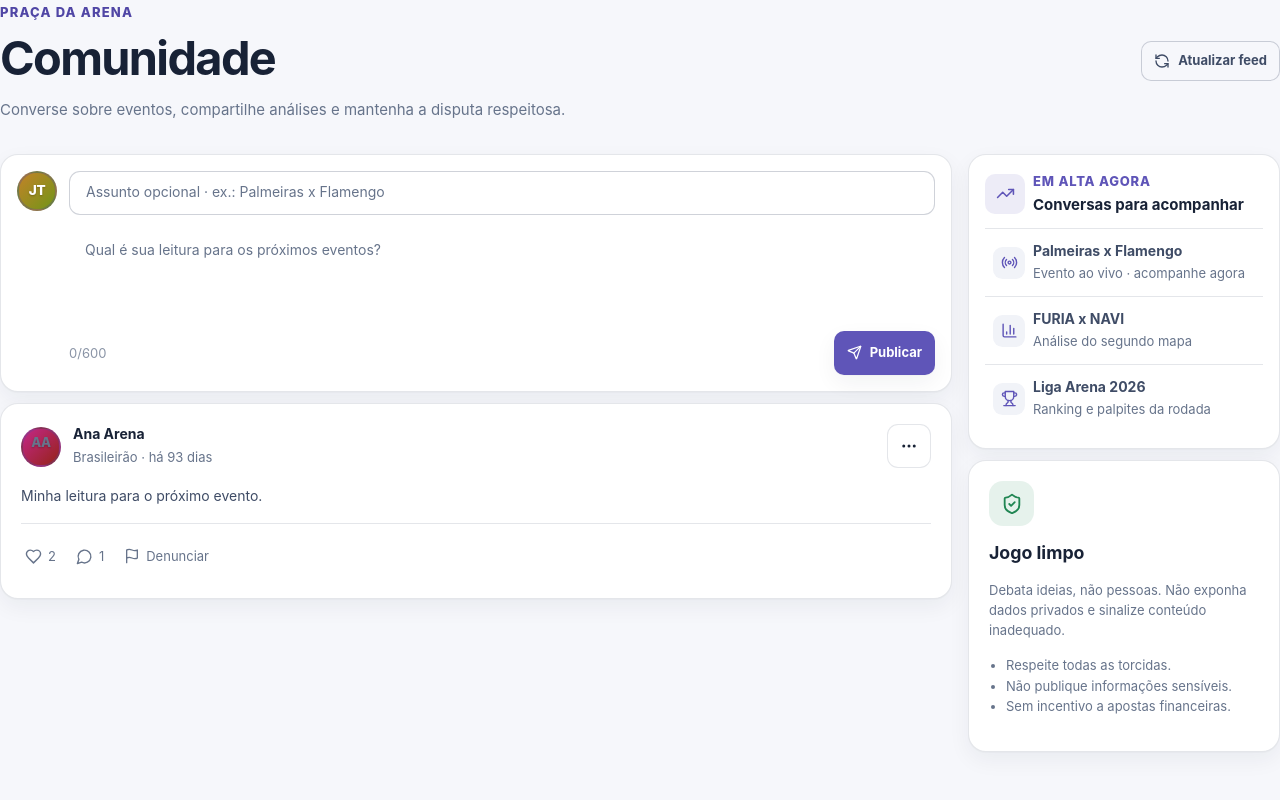
Test: página Comunidade › exibe falha de carregamento e permite tentar novamente
Click the button named "Abrir comentários".
click(90, 556)  # box [72,534,108,578]
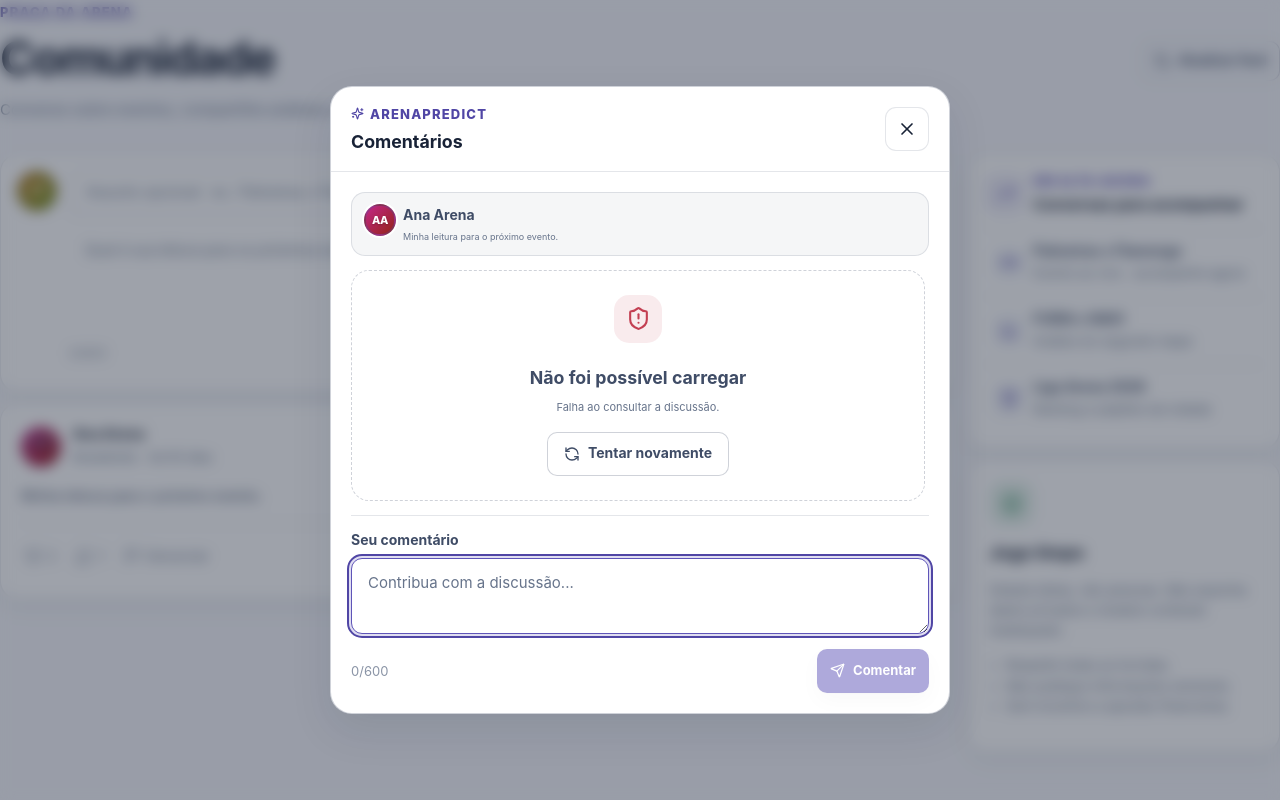
Result: the text "Falha ao consultar a discussão." is shown at [556,399,720,416]
Click the button "Tentar novamente".
click(638, 454)  # box [547,432,729,476]
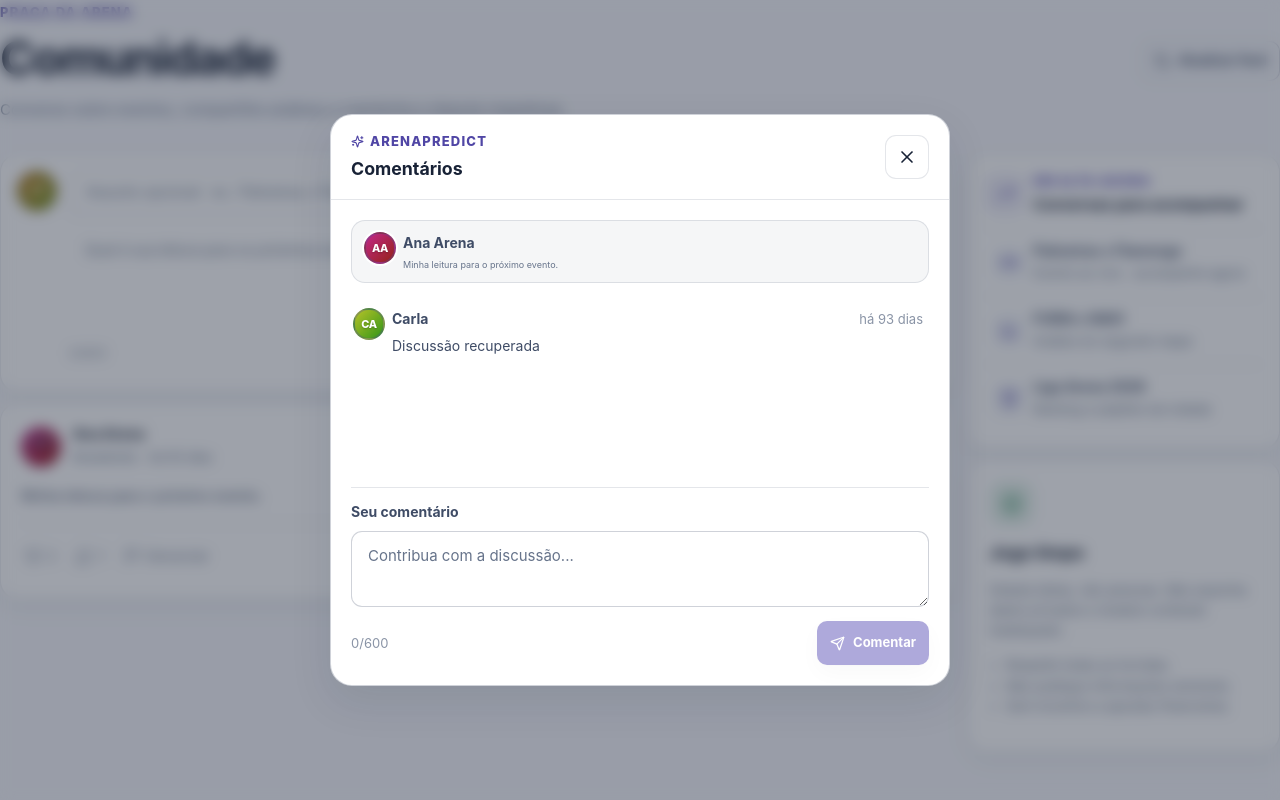
Result: the text "Discussão recuperada" is shown at [392,337,540,354]
